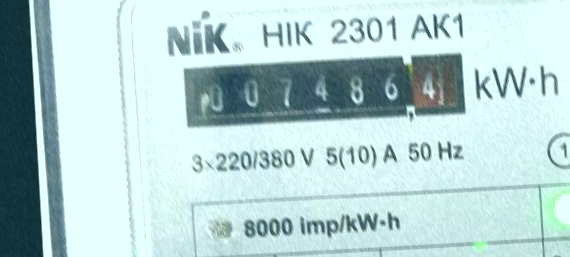0: (205, 77, 227, 112), (242, 73, 261, 107)
4: (310, 67, 330, 102), (418, 66, 437, 100)
6: (381, 68, 402, 101)
7: (274, 72, 298, 107)
8: (348, 71, 367, 106)
screen: (173, 39, 476, 139)
